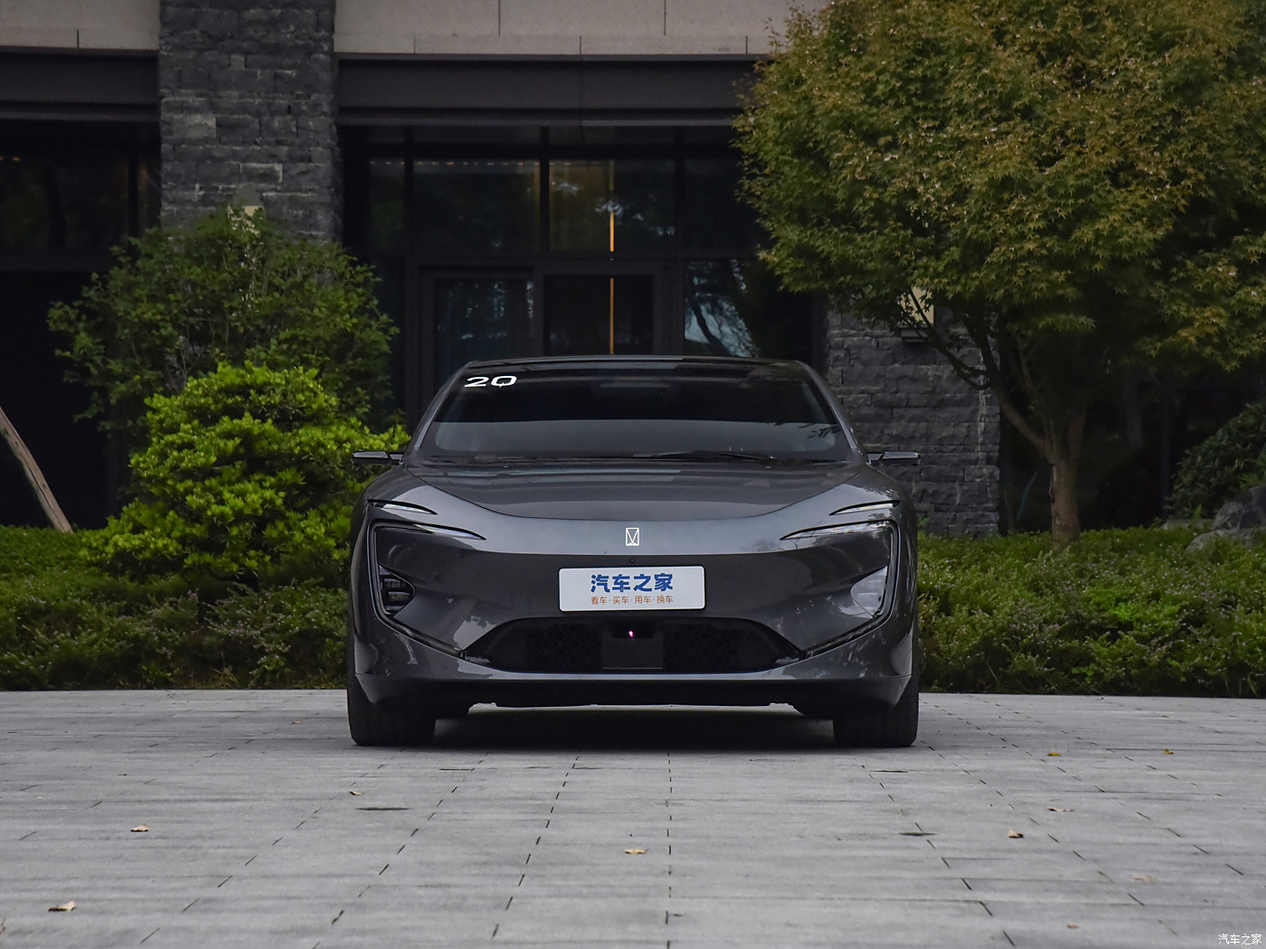AVATR: (626, 528, 638, 545)
